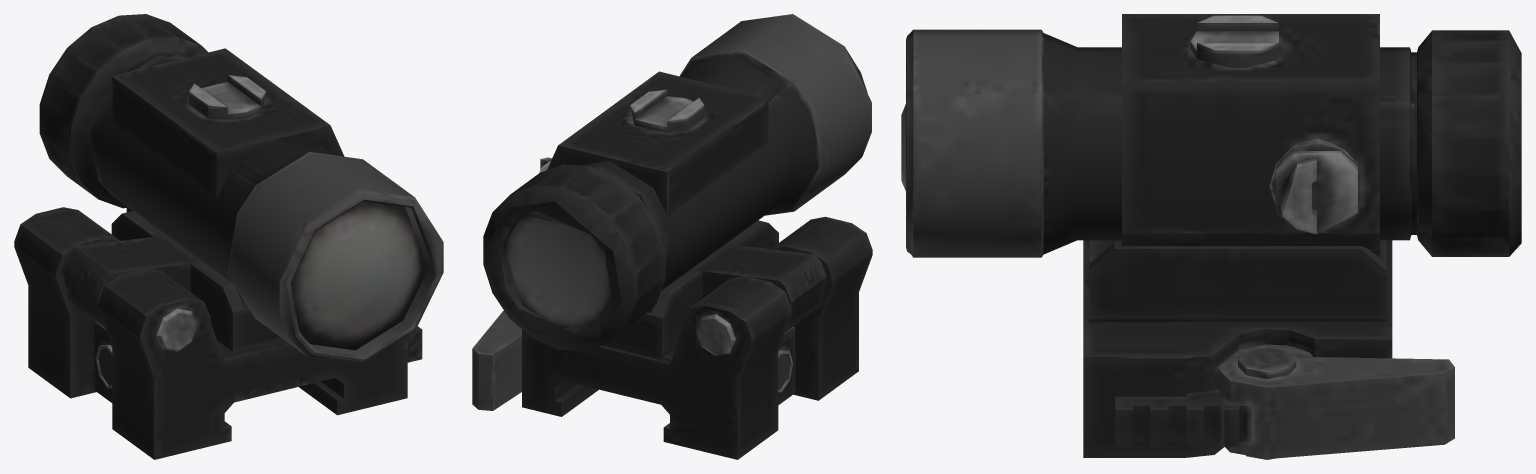
Rendered from smgscope.glb.
The picture shows the model from 3 angles, left to right: view 1: azimuth 30°, elevation 25°; view 2: azimuth 150°, elevation 25°; view 3: azimuth 270°, elevation 25°; orthographic projection. The views are drawn at different scales.
Visible parts, largest first — view 1: Cylinder.006_Material.003_0, Cylinder.003_Material.003_0, Cylinder.012_Material.003_0, Cylinder.011_Material.003_0, Cylinder.010_Material.003_0, Cylinder.004_Material.003_0; view 2: Cylinder.006_Material.003_0, Cylinder.003_Material.003_0, Cylinder.001_Material.003_0, Cylinder.012_Material.003_0, Cylinder.011_Material.003_0, Cylinder.010_Material.003_0; view 3: Cylinder.006_Material.003_0, Cylinder.001_Material.003_0, Cylinder.003_Material.003_0, Cylinder.004_Material.003_0, Cylinder.005_Material.003_0.
Part boxes in pixels (bbox=[...]): Cylinder.006_Material.003_0: bbox=[39, 14, 443, 364]; Cylinder.003_Material.003_0: bbox=[14, 207, 407, 459]; Cylinder.012_Material.003_0: bbox=[156, 308, 197, 351]; Cylinder.011_Material.003_0: bbox=[94, 321, 112, 402]; Cylinder.010_Material.003_0: bbox=[95, 345, 112, 388]; Cylinder.004_Material.003_0: bbox=[407, 326, 422, 362]; Cylinder.006_Material.003_0: bbox=[483, 14, 871, 358]; Cylinder.003_Material.003_0: bbox=[522, 216, 872, 459]; Cylinder.001_Material.003_0: bbox=[472, 310, 521, 410]; Cylinder.012_Material.003_0: bbox=[695, 314, 736, 355]; Cylinder.011_Material.003_0: bbox=[778, 326, 795, 404]; Cylinder.010_Material.003_0: bbox=[778, 350, 793, 392]; Cylinder.006_Material.003_0: bbox=[901, 14, 1521, 322]; Cylinder.001_Material.003_0: bbox=[1217, 344, 1454, 458]; Cylinder.003_Material.003_0: bbox=[1083, 240, 1392, 457]; Cylinder.004_Material.003_0: bbox=[1115, 389, 1251, 446]; Cylinder.005_Material.003_0: bbox=[1238, 347, 1296, 459].
Bounding box in the file's own units: 0.4717 × 0.4419 × 0.7.
1 material, 1 textured.
